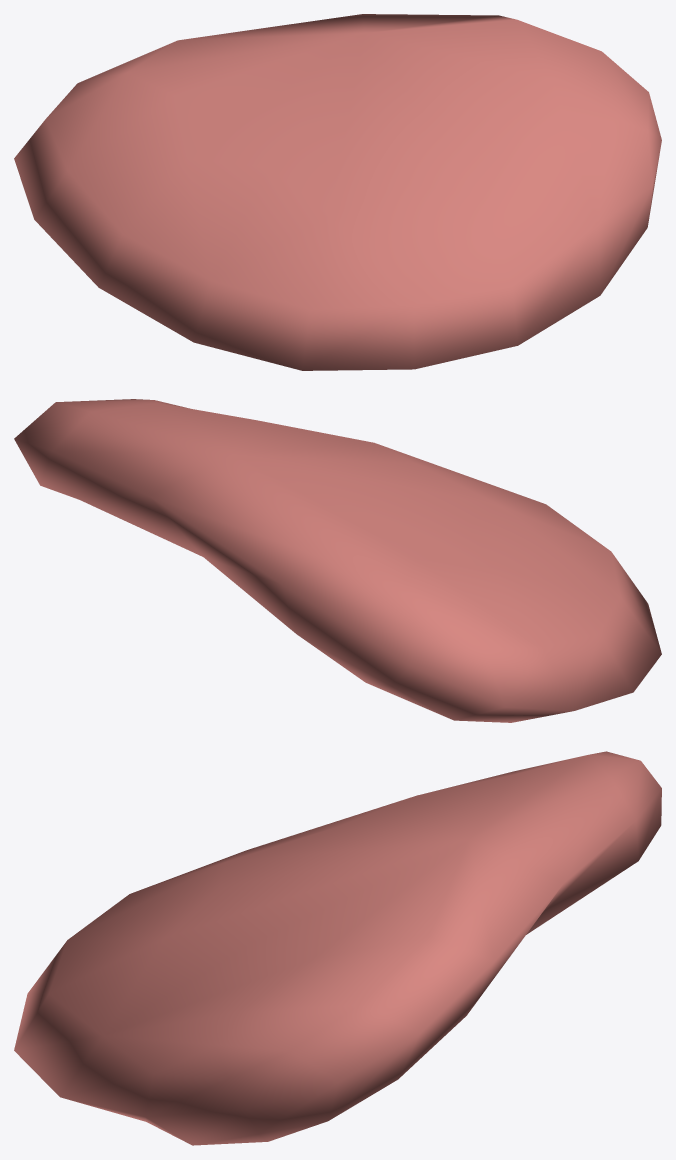
3 renders of one model, top to bottom at view 1: azimuth 30°, elevation 25°; view 2: azimuth 150°, elevation 25°; view 3: azimuth 270°, elevation 25°, orthographic. The views are drawn at different scales.
Visible parts, largest first — view 1: ZA_8ca75918433d07cd; view 2: ZA_8ca75918433d07cd; view 3: ZA_8ca75918433d07cd.
Part boxes in pixels (x1=…): ZA_8ca75918433d07cd: x1=14, y1=14, x2=661, y2=370; ZA_8ca75918433d07cd: x1=14, y1=399, x2=661, y2=722; ZA_8ca75918433d07cd: x1=14, y1=751, x2=661, y2=1145.
Size of the model in its own units: 0.00286 by 0.000989 by 0.00234.
